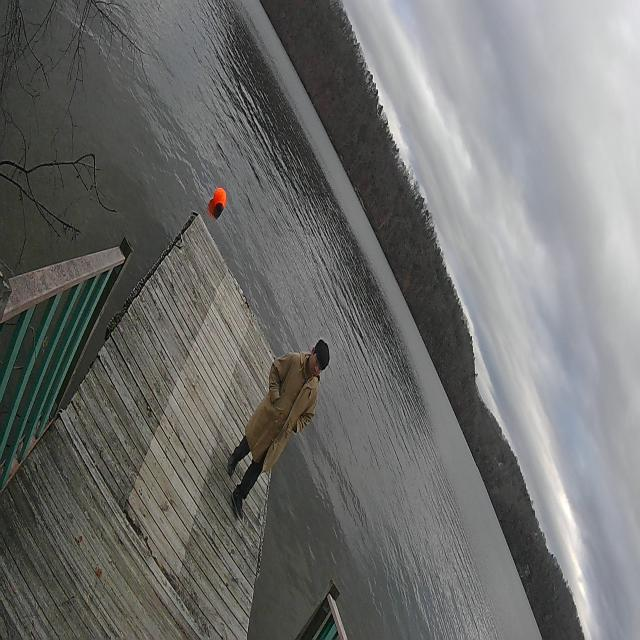Buoy: (212, 181, 230, 218)
